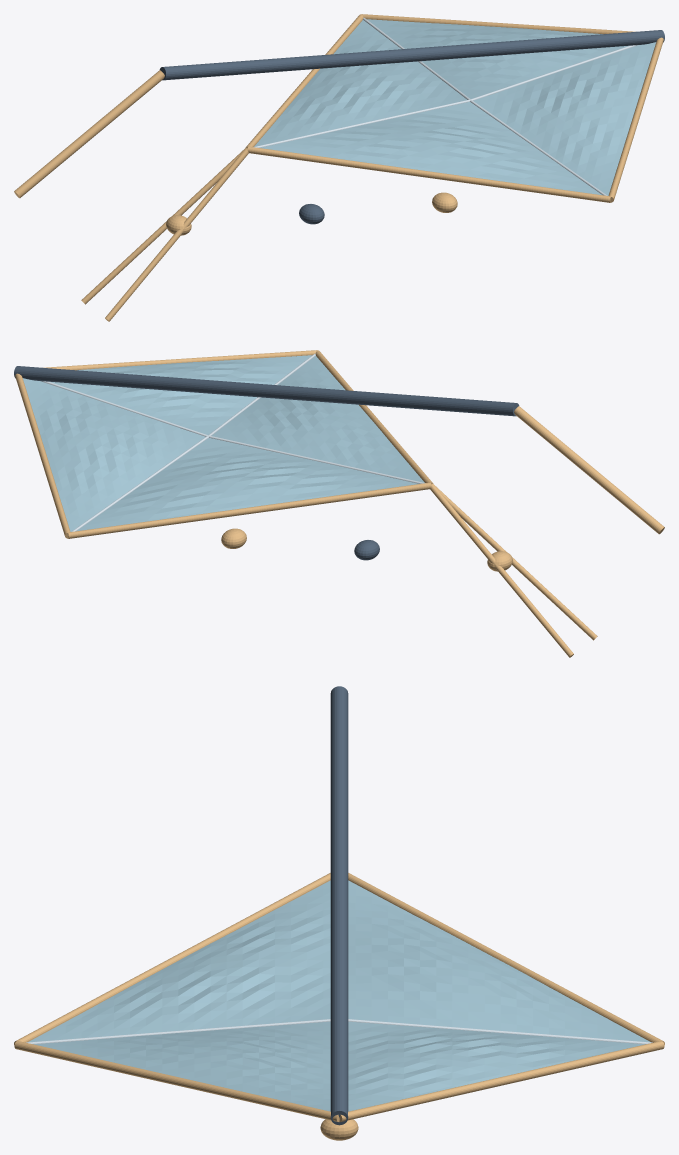
File: sail_right.glb
3 views of the same model, one above another, from view 1: azimuth 30°, elevation 25°; view 2: azimuth 150°, elevation 25°; view 3: azimuth 270°, elevation 25° (orthographic). The views are drawn at different scales.
Visible parts, largest first — view 1: WEB_Tension_Membrane_1, WEB_P2L_Raised_MainBoom_1, WEB_Membrane_Edge_1_0, WEB_P2L_Overhead_Yoke_1, WEB_Boom_CrossBraceRear_1, WEB_Membrane_Edge_1_2, WEB_Boom_CrossBrace_1, WEB_Membrane_Edge_1_1, WEB_Membrane_Edge_1_3, WEB_Membrane_Tension_1_0, WEB_Membrane_Tension_1_2, WEB_Membrane_Tension_1_1; view 2: WEB_Tension_Membrane_1, WEB_P2L_Raised_MainBoom_1, WEB_Membrane_Edge_1_3, WEB_P2L_Overhead_Yoke_1, WEB_Boom_CrossBrace_1, WEB_Membrane_Edge_1_1, WEB_Boom_CrossBraceRear_1, WEB_Membrane_Edge_1_2, WEB_Membrane_Edge_1_0, WEB_Membrane_Tension_1_0, WEB_Membrane_Tension_1_2, WEB_Membrane_Tension_1_3; view 3: WEB_Tension_Membrane_1, WEB_P2L_Raised_MainBoom_1, WEB_Membrane_Edge_1_1, WEB_Membrane_Edge_1_2, WEB_Membrane_Edge_1_3, WEB_Membrane_Edge_1_0, WEB_Membrane_Tension_1_1, WEB_Membrane_Tension_1_3.
Part boxes in pixels (bbox=[...]): WEB_Tension_Membrane_1: bbox=[254, 19, 656, 195]; WEB_P2L_Raised_MainBoom_1: bbox=[159, 30, 664, 80]; WEB_Membrane_Edge_1_0: bbox=[247, 146, 610, 202]; WEB_P2L_Overhead_Yoke_1: bbox=[14, 70, 164, 198]; WEB_Boom_CrossBraceRear_1: bbox=[105, 148, 248, 321]; WEB_Membrane_Edge_1_2: bbox=[361, 14, 635, 34]; WEB_Boom_CrossBrace_1: bbox=[81, 148, 246, 304]; WEB_Membrane_Edge_1_1: bbox=[608, 37, 663, 202]; WEB_Membrane_Edge_1_3: bbox=[245, 14, 363, 148]; WEB_Membrane_Tension_1_0: bbox=[253, 99, 470, 147]; WEB_Membrane_Tension_1_2: bbox=[470, 45, 638, 100]; WEB_Membrane_Tension_1_1: bbox=[470, 100, 607, 195]; WEB_Tension_Membrane_1: bbox=[22, 355, 424, 531]; WEB_P2L_Raised_MainBoom_1: bbox=[14, 366, 519, 416]; WEB_Membrane_Edge_1_3: bbox=[68, 482, 431, 538]; WEB_P2L_Overhead_Yoke_1: bbox=[514, 406, 664, 534]; WEB_Boom_CrossBrace_1: bbox=[430, 484, 573, 657]; WEB_Membrane_Edge_1_1: bbox=[43, 350, 317, 370]; WEB_Boom_CrossBraceRear_1: bbox=[432, 484, 597, 640]; WEB_Membrane_Edge_1_2: bbox=[15, 373, 70, 538]; WEB_Membrane_Edge_1_0: bbox=[315, 350, 433, 484]; WEB_Membrane_Tension_1_0: bbox=[208, 435, 425, 483]; WEB_Membrane_Tension_1_2: bbox=[40, 381, 208, 436]; WEB_Membrane_Tension_1_3: bbox=[71, 436, 208, 531]; WEB_Tension_Membrane_1: bbox=[28, 880, 650, 1111]; WEB_P2L_Raised_MainBoom_1: bbox=[330, 686, 348, 1125]; WEB_Membrane_Edge_1_1: bbox=[14, 1041, 339, 1121]; WEB_Membrane_Edge_1_2: bbox=[339, 1041, 664, 1121]; WEB_Membrane_Edge_1_3: bbox=[348, 873, 664, 1044]; WEB_Membrane_Edge_1_0: bbox=[14, 873, 330, 1044]; WEB_Membrane_Tension_1_1: bbox=[26, 1019, 330, 1044]; WEB_Membrane_Tension_1_3: bbox=[348, 1019, 652, 1044].
Size of the model in its own units: 7.22 by 2.44 by 4.85.
